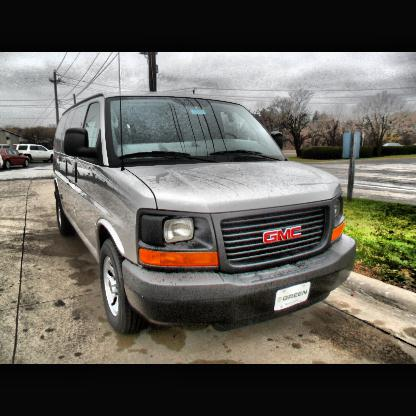GMC Savana Van 2012: (52, 92, 359, 338)
